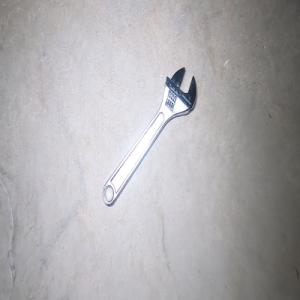Wrench: (102, 67, 196, 206)
